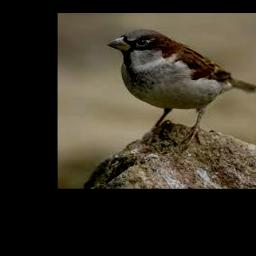Sparrow: (106, 30, 256, 146)
